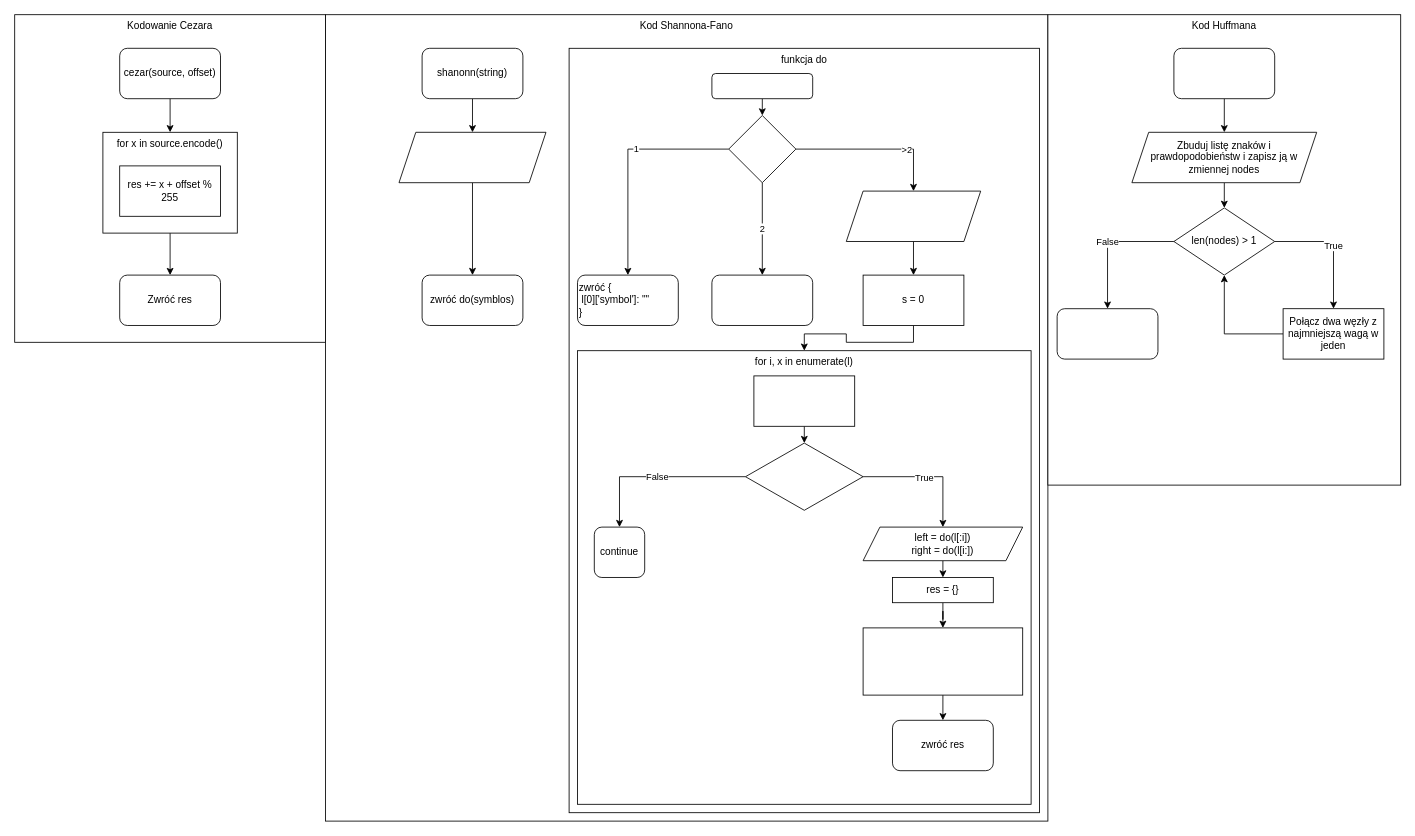
The diagram is 1415 pixels wide and 836 high, and some of its shapes have lost their labels. Here are the shapes that lost their labels. From the top down, the centre of each, then its label:
pixel 762 86: do(l)
pixel 1224 73: huffman(string)
pixel 472 157: Wyznacz tablicę prawdopodobieństw symblos
pixel 762 149: match len(l)
pixel 913 216: zapisz sumę tablicy l prawdopodobieństw w th
pixel 762 300: zwróć { l[0]['symbol']: "0", l[1]['symbol']: "1" }
pixel 1107 333: Zwróć reprezentacje drzewa znaków jako dict
pixel 804 400: s += x['prob']
pixel 804 476: s > th / 2 and i != 0
pixel 942 661: Dopisz do res elementy z left z prefixem 0, z right z prefixem 1
